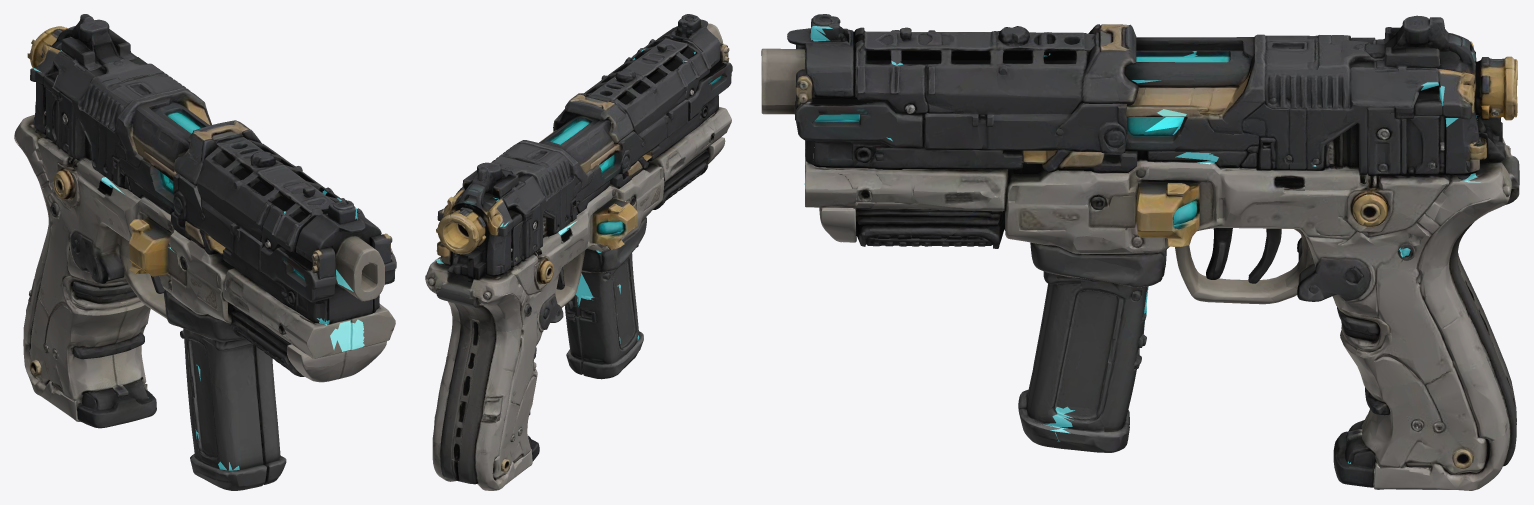
Rendered from hp_viewmodel_sidearm_reference_derived_v2_webp.glb.
The picture shows the model from 3 angles, left to right: view 1: azimuth 30°, elevation 25°; view 2: azimuth 150°, elevation 25°; view 3: azimuth 270°, elevation 25°; orthographic projection. The views are drawn at different scales.
Visible parts, largest first — view 1: sidearm_grip_node, sidearm_slide_node, sidearm_barrel_node, sidearm_frame_node, sidearm_emissive_node, sidearm_trim_node; view 2: sidearm_grip_node, sidearm_slide_node, sidearm_barrel_node, sidearm_frame_node, sidearm_trim_node, sidearm_emissive_node; view 3: sidearm_grip_node, sidearm_slide_node, sidearm_barrel_node, sidearm_frame_node, sidearm_trim_node, sidearm_emissive_node.
Boxes of the visible parts, x1=… form: sidearm_grip_node: x1=14, y1=14, x2=396, y2=382; sidearm_slide_node: x1=29, y1=14, x2=209, y2=452; sidearm_barrel_node: x1=23, y1=280, x2=286, y2=490; sidearm_frame_node: x1=129, y1=119, x2=280, y2=469; sidearm_emissive_node: x1=33, y1=50, x2=379, y2=470; sidearm_trim_node: x1=50, y1=24, x2=376, y2=387; sidearm_grip_node: x1=425, y1=14, x2=732, y2=307; sidearm_slide_node: x1=433, y1=129, x2=636, y2=405; sidearm_barrel_node: x1=432, y1=300, x2=643, y2=490; sidearm_frame_node: x1=539, y1=94, x2=639, y2=337; sidearm_trim_node: x1=438, y1=53, x2=727, y2=401; sidearm_emissive_node: x1=434, y1=48, x2=695, y2=343; sidearm_grip_node: x1=761, y1=14, x2=1519, y2=278; sidearm_slide_node: x1=1067, y1=15, x2=1518, y2=415; sidearm_barrel_node: x1=1018, y1=331, x2=1516, y2=490; sidearm_frame_node: x1=1028, y1=24, x2=1196, y2=417; sidearm_trim_node: x1=846, y1=21, x2=1511, y2=360; sidearm_emissive_node: x1=804, y1=26, x2=1480, y2=463.
Size of the model in its own units: 0.2431 by 0.6473 by 0.9785.
6 materials, 6 textured.
